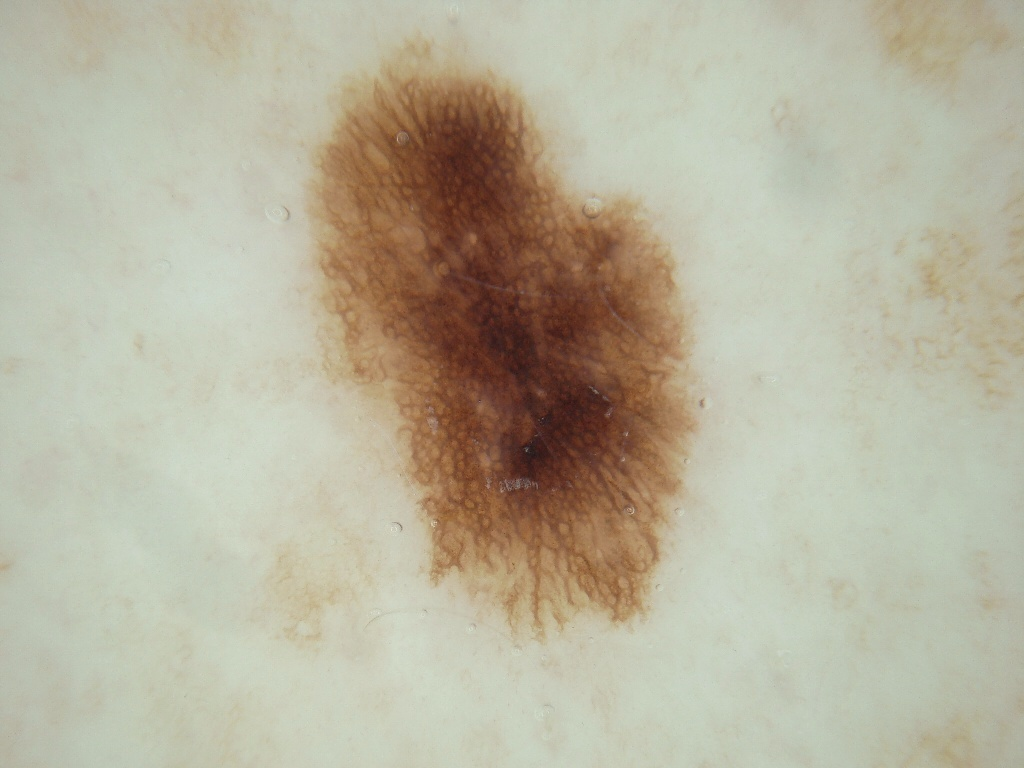Detected Lesion: (306, 38, 697, 663)
